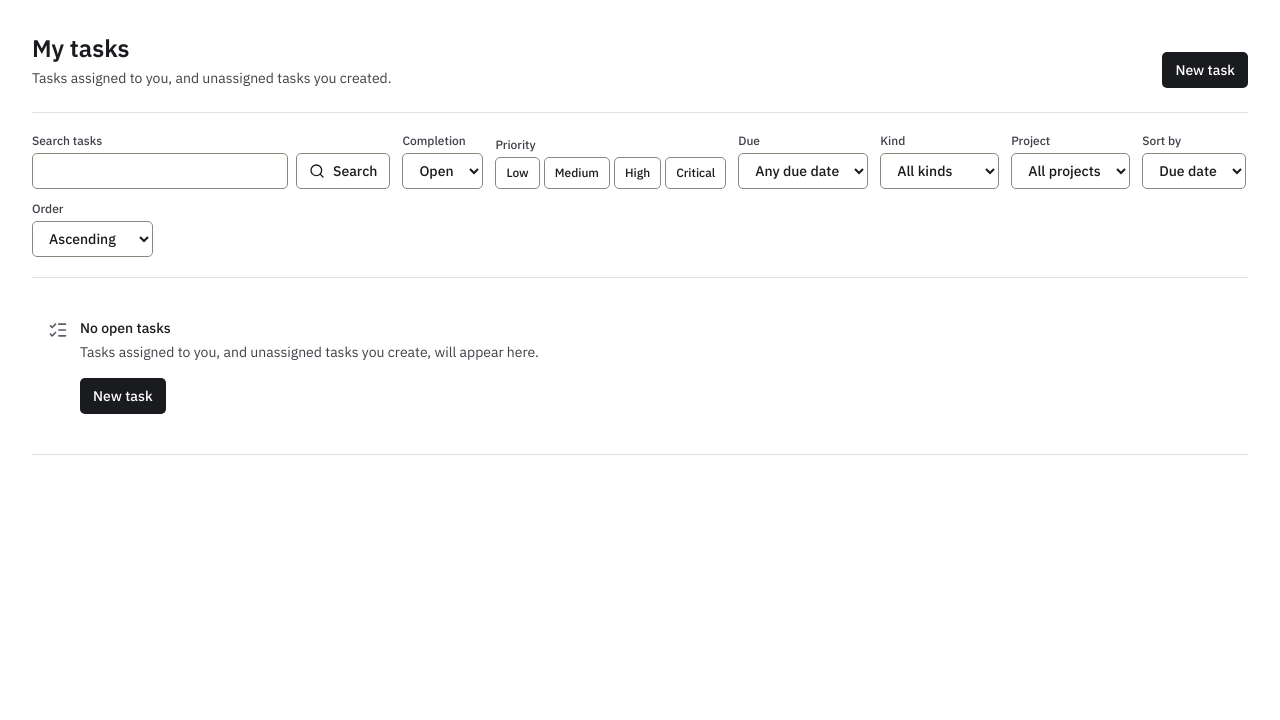
Scenario: empty states (Direction D §15.2) › says what will appear in a truly empty view and offers the create action
Expected: the text "No open tasks" is shown, [80,319,171,337]
Click the button "New task" below "No open tasks". click: point(123, 396)
box: [80,378,166,414]
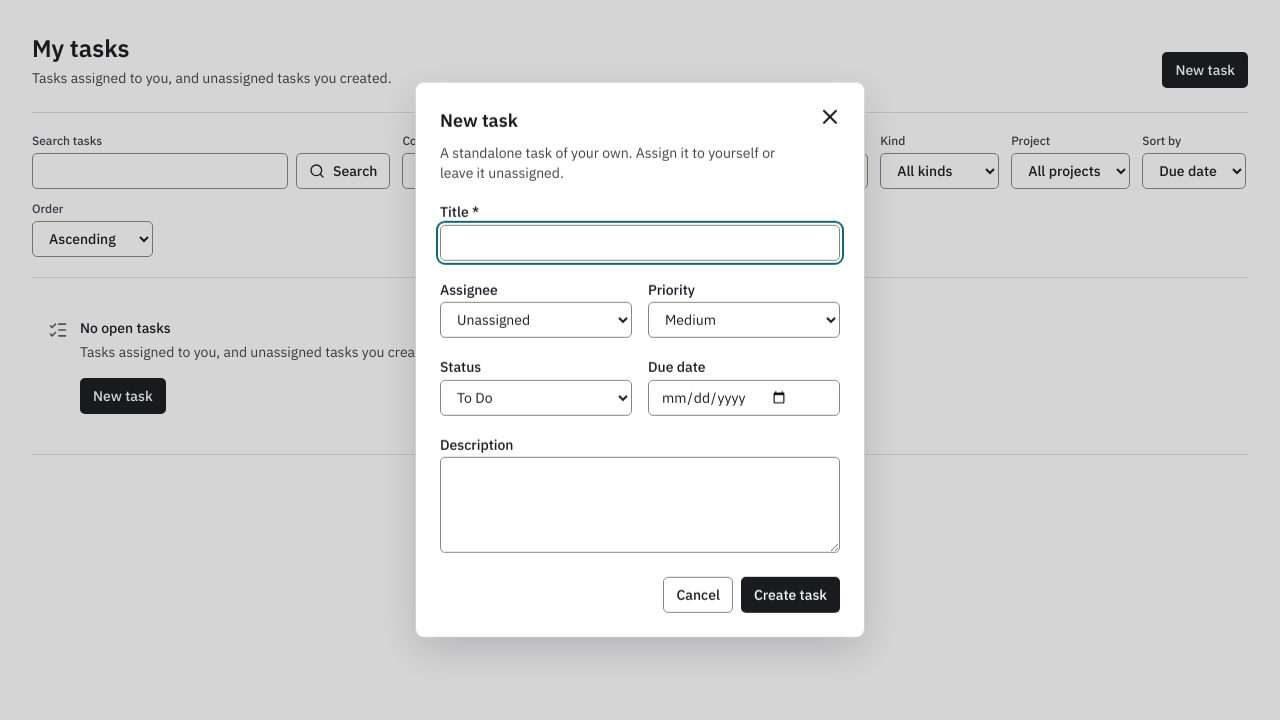
Now the dialog "New task" is shown, box [416,83,864,637]
